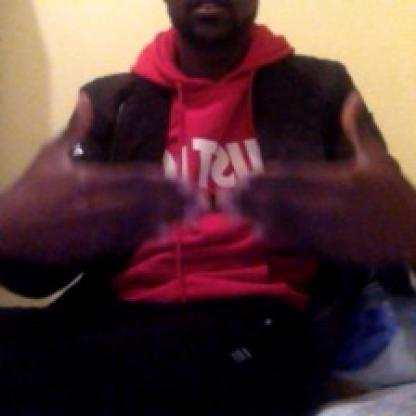TURN LEFT: (4, 84, 415, 295)
